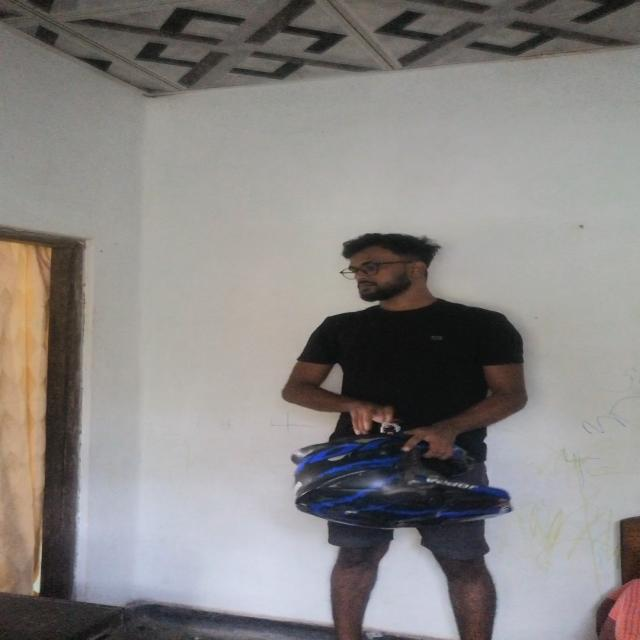Person: (271, 225, 522, 616)
